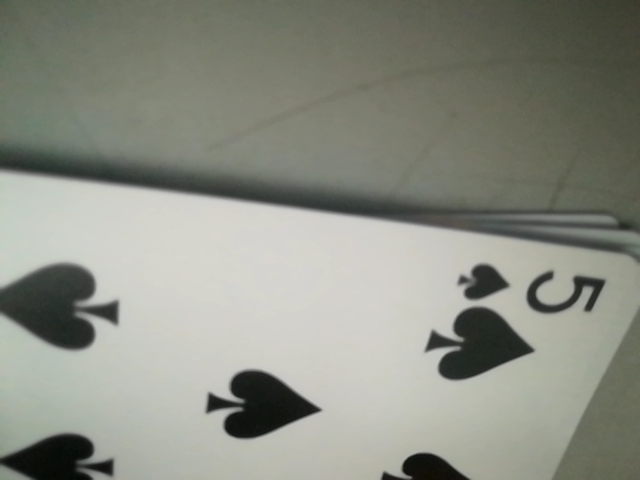ht 5: (453, 254, 615, 315)
